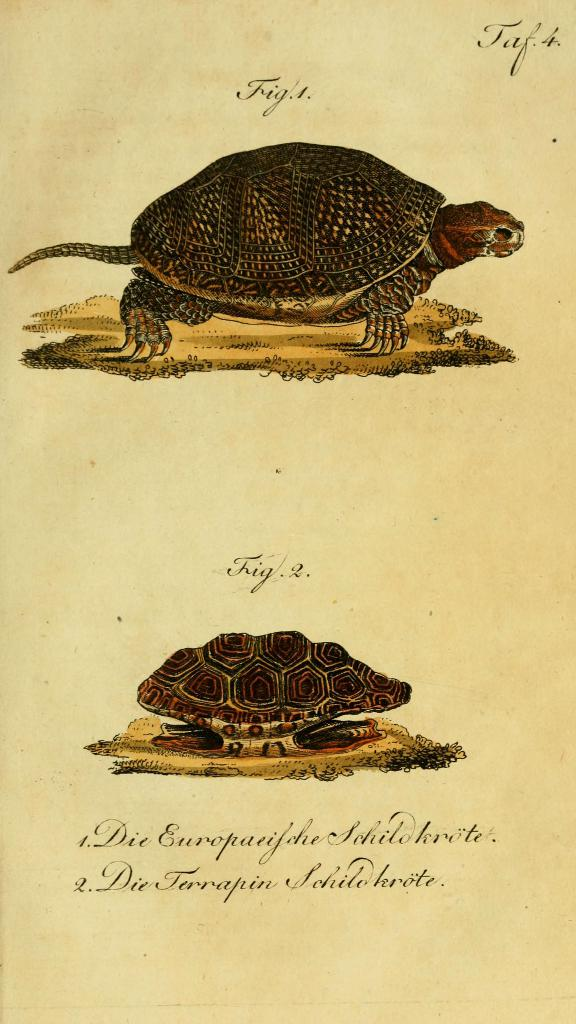Sea turtles: (0, 135, 522, 364), (126, 618, 413, 757)
